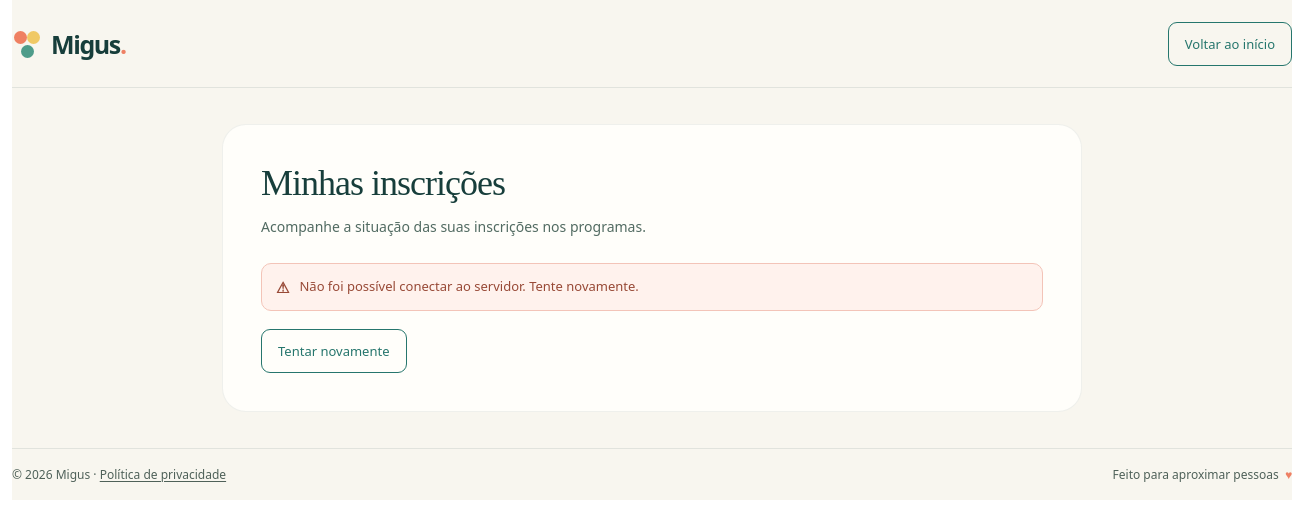
Test: mostra erro e permite tentar novamente
Check: the message shows "Não foi possível conectar ao servidor", box [300,277,639,295]
Check: the text "Você ainda não se inscreveu em nenhum programa." is not shown
Click the button "Tentar novamente": (334, 351) [261,329,406,373]
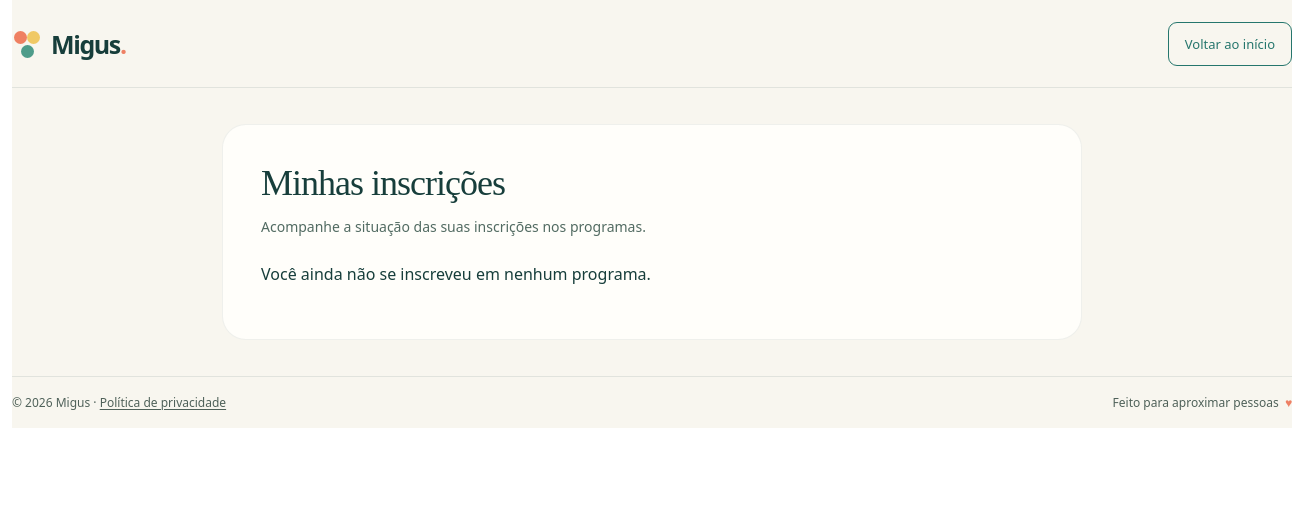
Check: the text "Você ainda não se inscreveu em nenhum programa." is shown, box [261,263,651,285]
Check: the message "⚠ Não foi possível conectar ao servidor. Tente novamente." is gone
